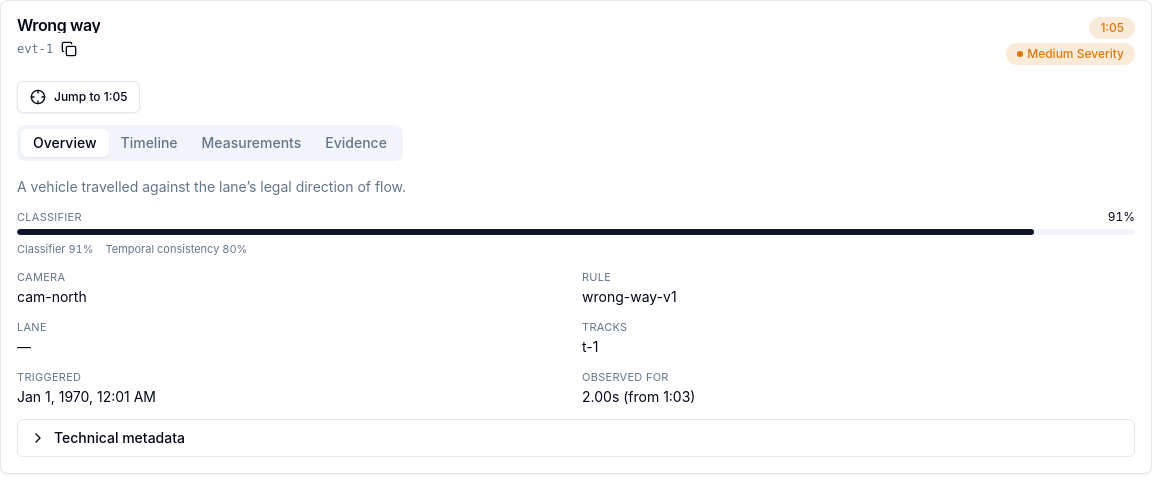
Test: EventDetail › shows measurements against thresholds
What coordinates should you click on to do the following:
click the tab "Measurements"
I would click on:
 (251, 143)
Its box is [190,129,313,157].
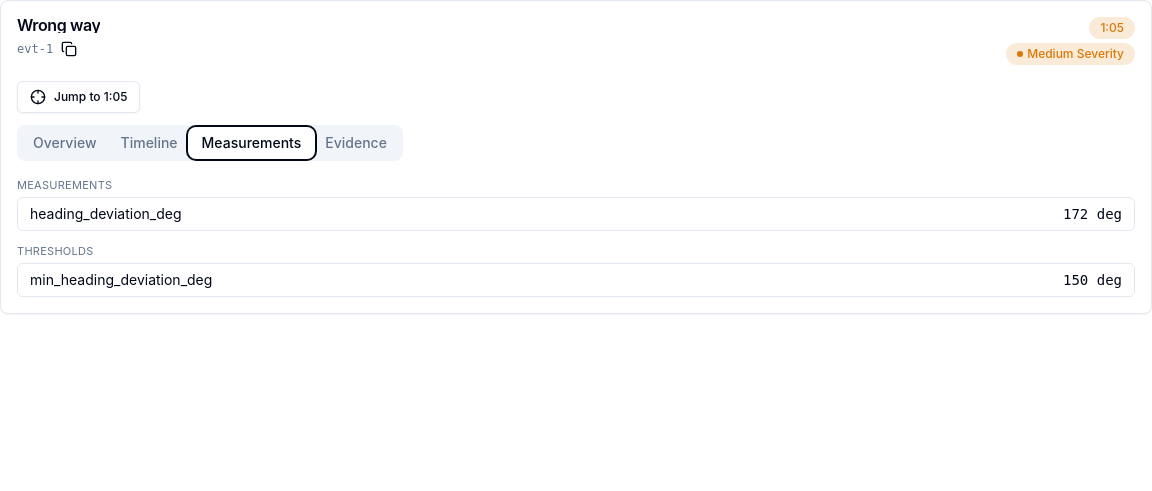
Check: the text "heading_deviation_deg" is shown, box [30,204,182,224]
Check: the text "min_heading_deviation_deg" is shown, box [30,270,212,290]
Check: the text "172 deg" is shown, box [1063,204,1122,224]
